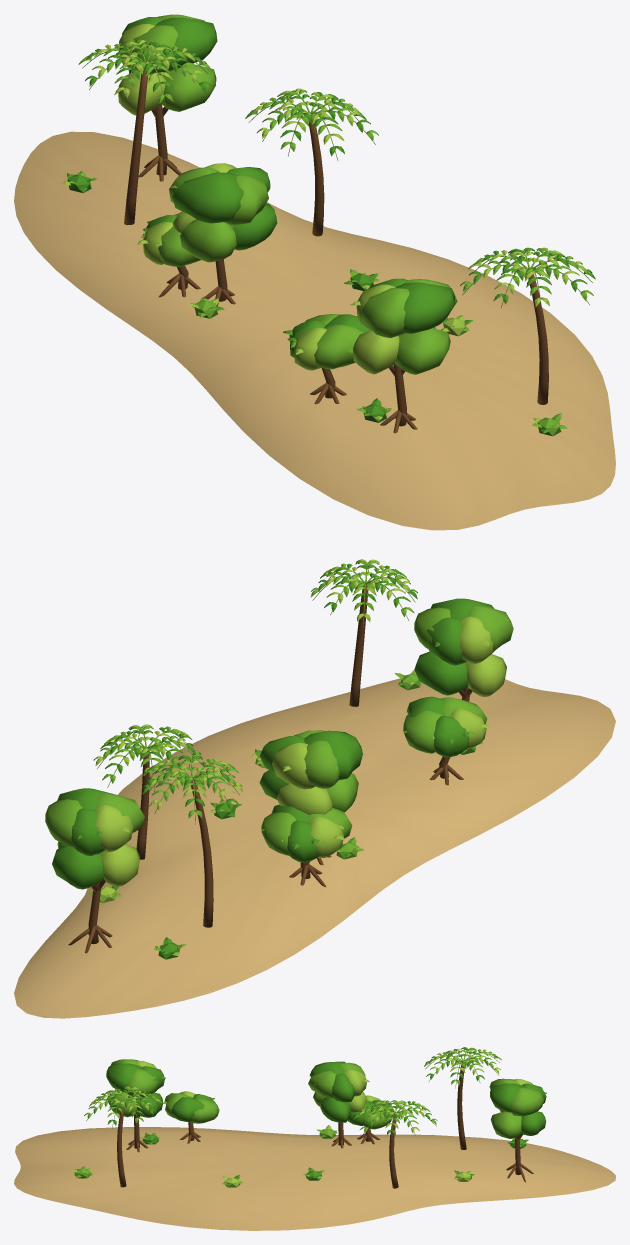
The model's file is shore-mangrove-v4.glb.
3 renders of one model, top to bottom at view 1: azimuth 30°, elevation 25°; view 2: azimuth 150°, elevation 25°; view 3: azimuth 270°, elevation 25°, orthographic. The views are drawn at different scales.
Parts seen in each view (by area): view 1: Study warm sand, Study foliage 1, Study foliage 0, Study foliage 2, Study warm wood; view 2: Study warm sand, Study foliage 0, Study foliage 1, Study foliage 2, Study warm wood; view 3: Study warm sand, Study foliage 0, Study foliage 1, Study foliage 2, Study warm wood.
Boxes of the visible parts, bbox=[...] form: Study warm sand: bbox=[14, 131, 615, 530]; Study foliage 1: bbox=[68, 14, 593, 436]; Study foliage 0: bbox=[67, 17, 595, 433]; Study foliage 2: bbox=[61, 24, 587, 427]; Study warm wood: bbox=[124, 70, 548, 433]; Study warm sand: bbox=[14, 678, 615, 1018]; Study foliage 0: bbox=[52, 563, 494, 959]; Study foliage 1: bbox=[45, 561, 513, 950]; Study foliage 2: bbox=[93, 559, 506, 956]; Study warm wood: bbox=[68, 585, 472, 953]; Study warm sand: bbox=[14, 1127, 615, 1230]; Study foliage 0: bbox=[75, 1047, 546, 1184]; Study foliage 1: bbox=[74, 1047, 543, 1184]; Study foliage 2: bbox=[71, 1049, 532, 1187]; Study warm wood: bbox=[117, 1062, 533, 1188].
Size of the model in its own units: 18.05 by 8.9 by 44.23.
